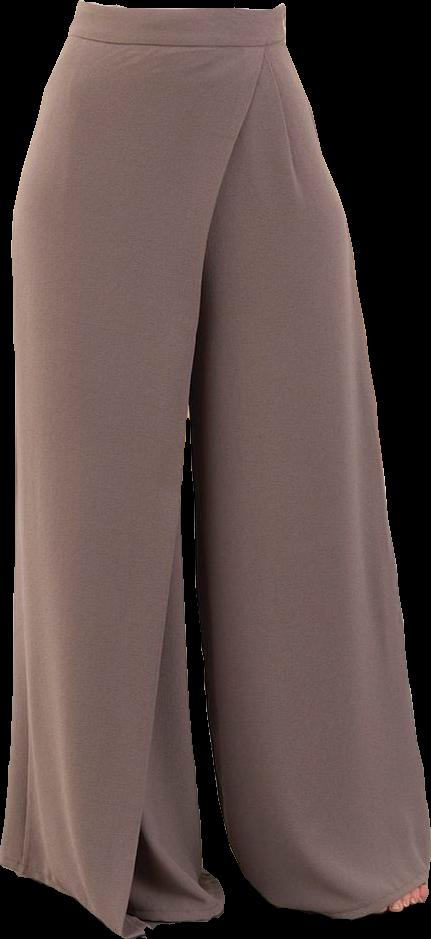Hemline: (0, 46, 289, 938), (188, 47, 430, 919), (128, 898, 232, 938)
Pantleg: (0, 0, 285, 938), (187, 35, 430, 918)
Waistline: (66, 28, 287, 57), (78, 0, 284, 20)
